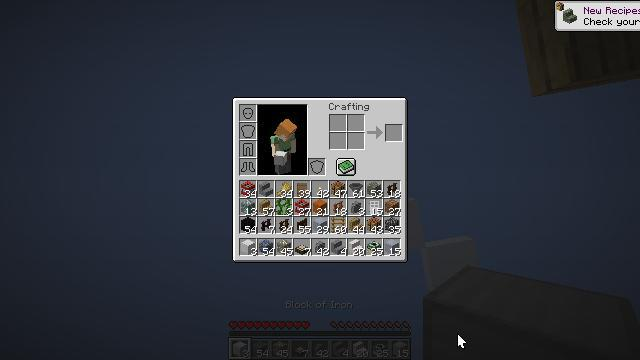cursor: (457, 333, 467, 349)
